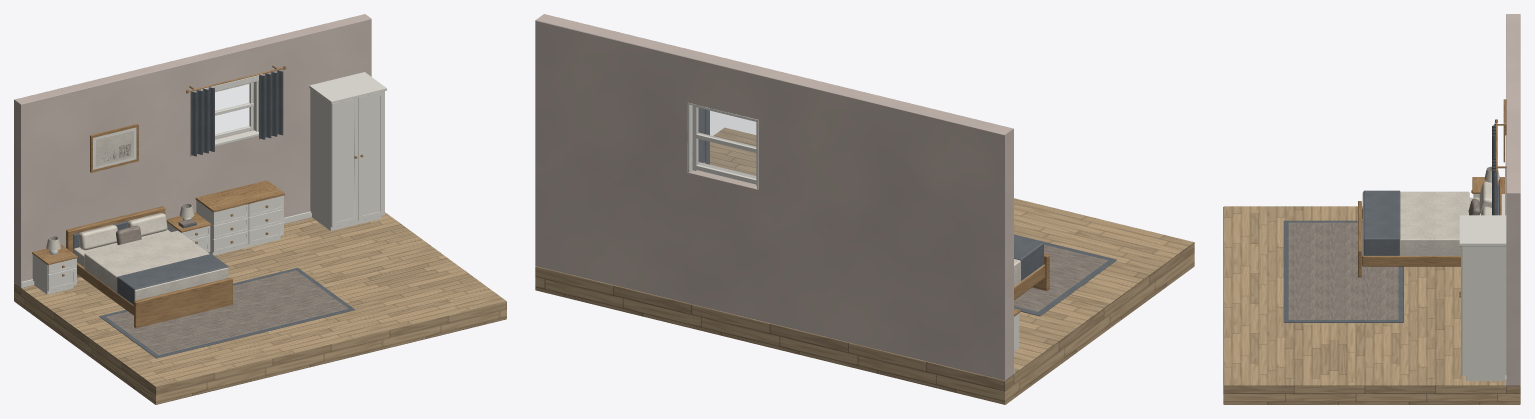
File: Room_Bedroom.fbx
3 views of the same model, side by side, from view 1: azimuth 30°, elevation 25°; view 2: azimuth 150°, elevation 25°; view 3: azimuth 270°, elevation 25° (orthographic). The views are drawn at different scales.
Visible parts, largest first — view 1: Bedroom_BackWall, Bedroom_Floor, Bedroom_Bed, Bedroom_Wardrobe, Bedroom_Rug, Bedroom_Dresser, Bedroom_Curtains, Bedroom_Window, Bedroom_Pictures, Bedroom_Nightstand_01, Bedroom_Pillows, Bedroom_Nightstand_02 (+1 smaller); view 2: Bedroom_BackWall, Bedroom_Floor, Bedroom_Window, Bedroom_Rug, Bedroom_Bed, Bedroom_Curtains; view 3: Bedroom_Floor, Bedroom_Rug, Bedroom_Bed, Bedroom_Wardrobe, Bedroom_BackWall, Bedroom_Curtains, Bedroom_Pillows.
Part boxes in pixels (bbox=[...]): Bedroom_BackWall: bbox=[14, 14, 371, 288]; Bedroom_Floor: bbox=[14, 212, 506, 404]; Bedroom_Bed: bbox=[66, 206, 232, 328]; Bedroom_Wardrobe: bbox=[309, 72, 386, 230]; Bedroom_Rug: bbox=[99, 267, 354, 358]; Bedroom_Dresser: bbox=[195, 180, 284, 255]; Bedroom_Curtains: bbox=[186, 65, 286, 156]; Bedroom_Window: bbox=[200, 74, 262, 146]; Bedroom_Pictures: bbox=[90, 123, 138, 172]; Bedroom_Nightstand_01: bbox=[32, 244, 77, 294]; Bedroom_Pillows: bbox=[78, 213, 167, 250]; Bedroom_Nightstand_02: bbox=[166, 212, 211, 252]; Bedroom_BackWall: bbox=[535, 14, 1014, 380]; Bedroom_Floor: bbox=[535, 128, 1194, 404]; Bedroom_Window: bbox=[687, 102, 758, 189]; Bedroom_Rug: bbox=[1014, 234, 1116, 316]; Bedroom_Bed: bbox=[1014, 235, 1049, 300]; Bedroom_Curtains: bbox=[698, 108, 709, 164]; Bedroom_Floor: bbox=[1223, 206, 1520, 404]; Bedroom_Rug: bbox=[1283, 220, 1403, 322]; Bedroom_Bed: bbox=[1358, 178, 1504, 277]; Bedroom_Wardrobe: bbox=[1459, 215, 1506, 380]; Bedroom_BackWall: bbox=[1505, 14, 1520, 385]; Bedroom_Curtains: bbox=[1492, 119, 1506, 215]; Bedroom_Pillows: bbox=[1468, 181, 1491, 215].
Bounding box in the file's own units: 600 × 330 × 420.
Materials: 8 (6 with a texture image).
